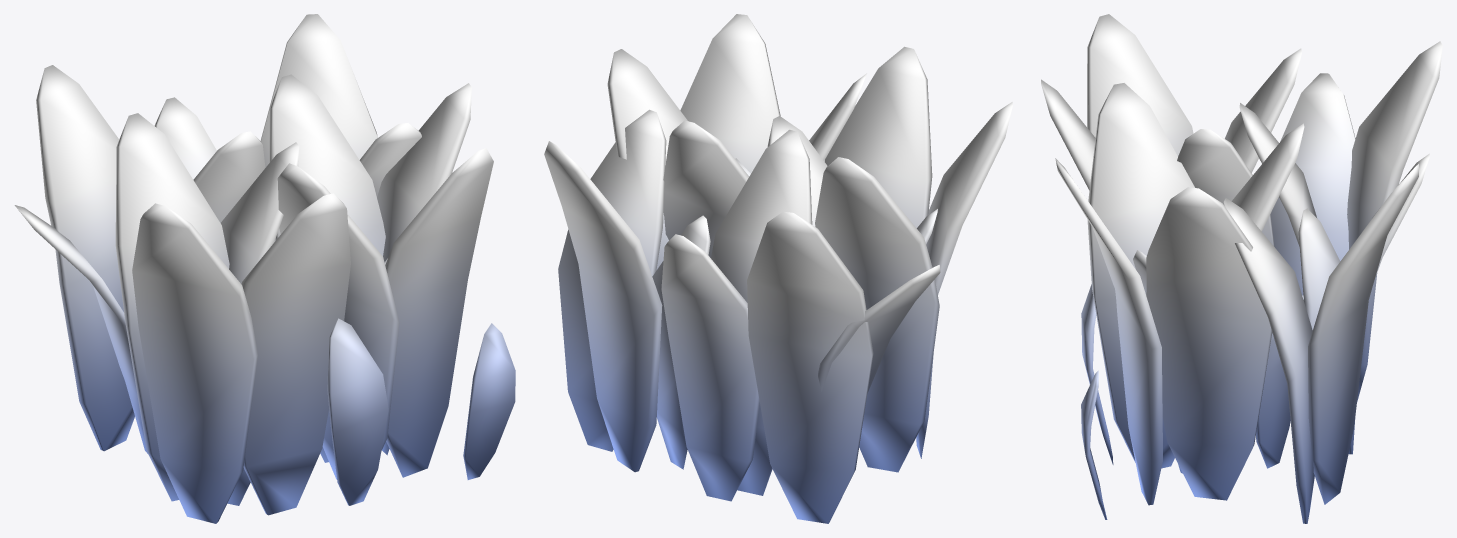
File: Grass_J.fbx
The picture shows the model from 3 angles, left to right: view 1: azimuth 30°, elevation 25°; view 2: azimuth 150°, elevation 25°; view 3: azimuth 270°, elevation 25°; orthographic projection.
Visible parts, largest first — view 1: Grass_J; view 2: Grass_J; view 3: Grass_J.
Boxes of the visible parts, x1,y1,x2,y2 form: Grass_J: (14,14,515,523); Grass_J: (544,14,1012,523); Grass_J: (1041,14,1442,523).
Size of the model in its own units: 174 by 147 by 153.
